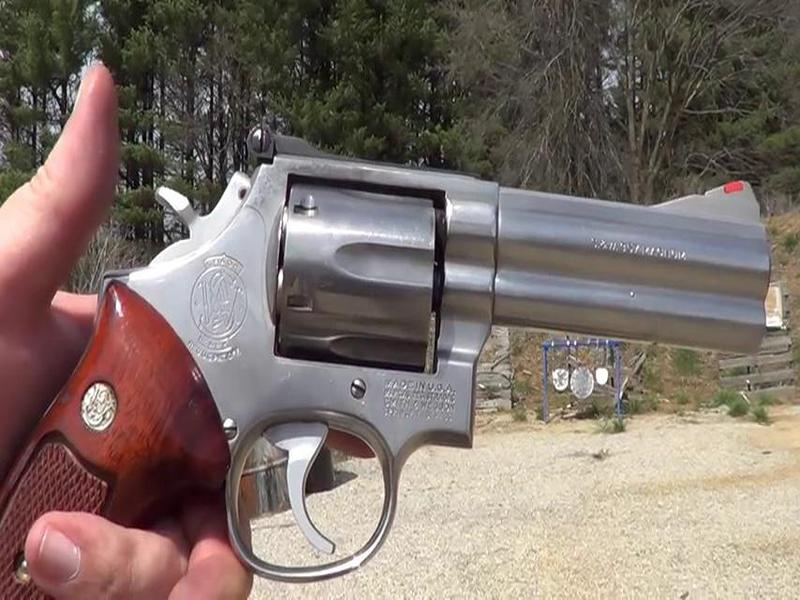Revolver: (26, 122, 800, 573)
